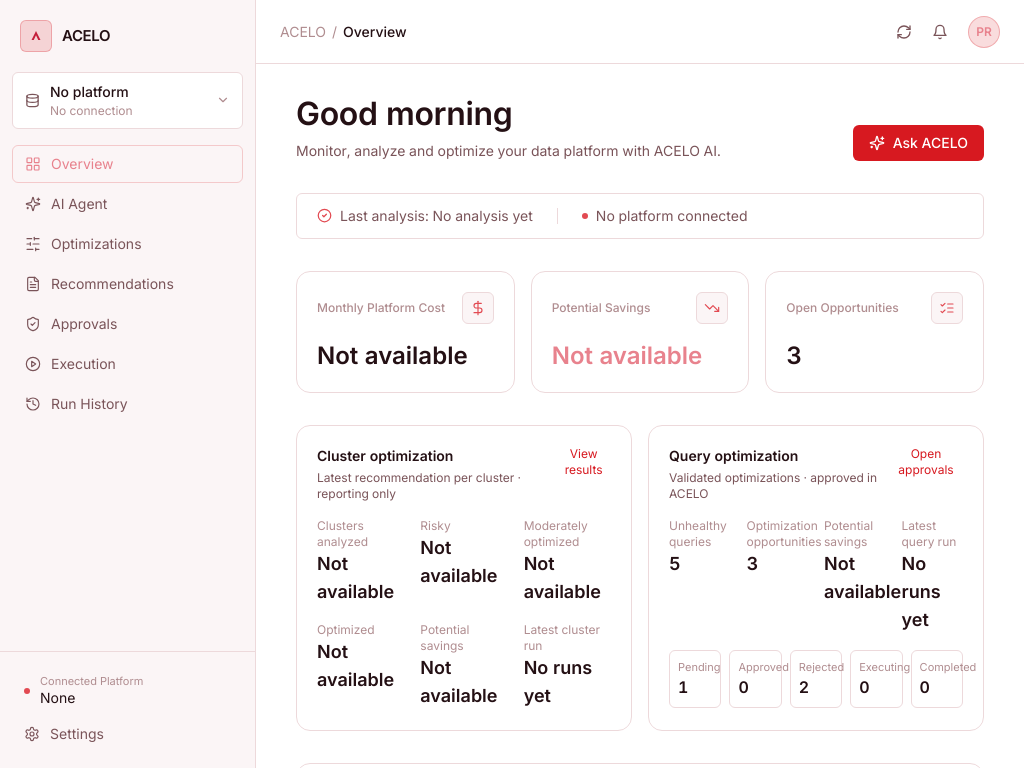
Dashboard approval KPIs › come from the real query summary and link to Approvals
The image size is (1024, 768).
Expected: the button with test id "approval-kpi-REJECTED" shows "2", [790,650,842,708]
Expected: the button with test id "approval-kpi-COMPLETED" shows "0", [911,650,963,708]
Click the button with test id "approval-kpi-PENDING" at x=695, y=679, box [669,650,721,708]
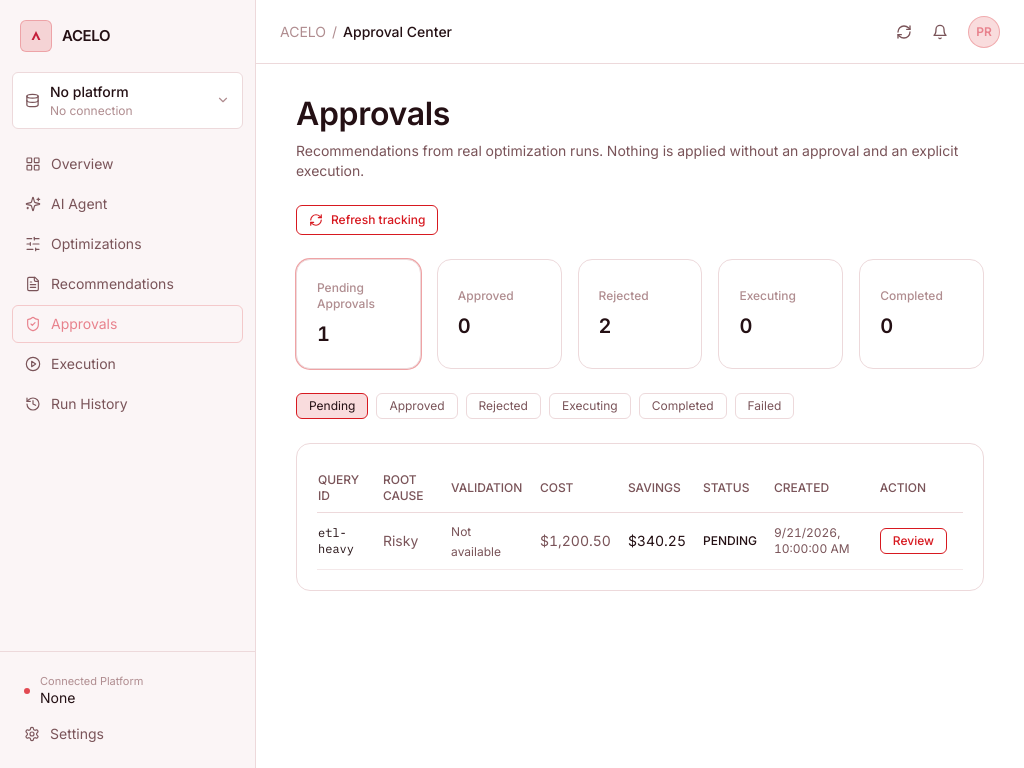
Now the heading "Approvals" is shown, box [296,94,450,133]
